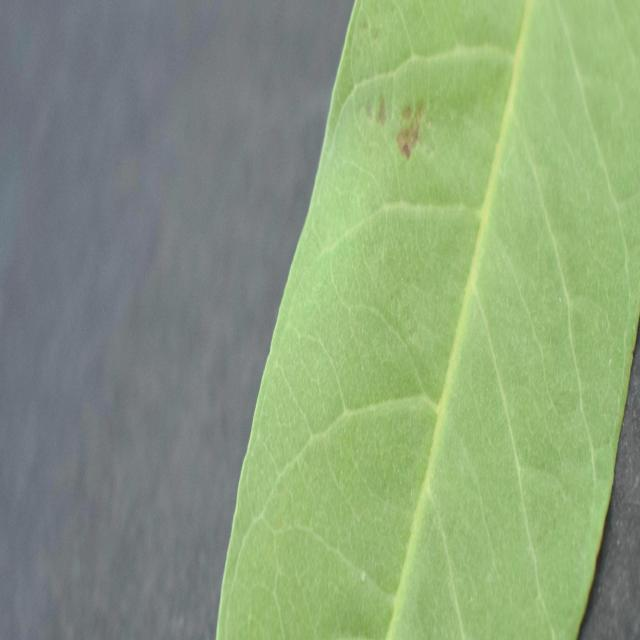Dot: (218, 2, 640, 638)
